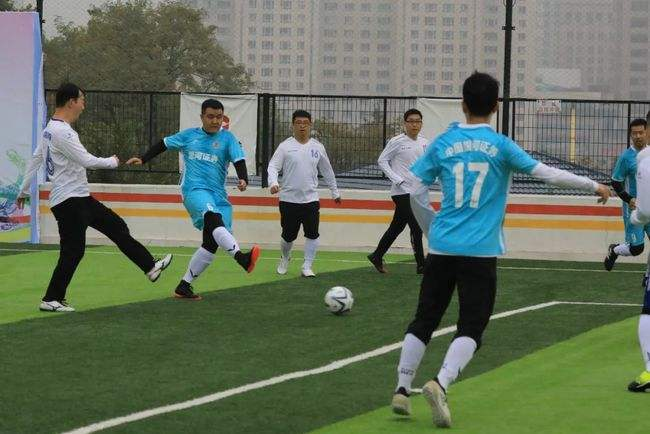football: (324, 285, 355, 317)
